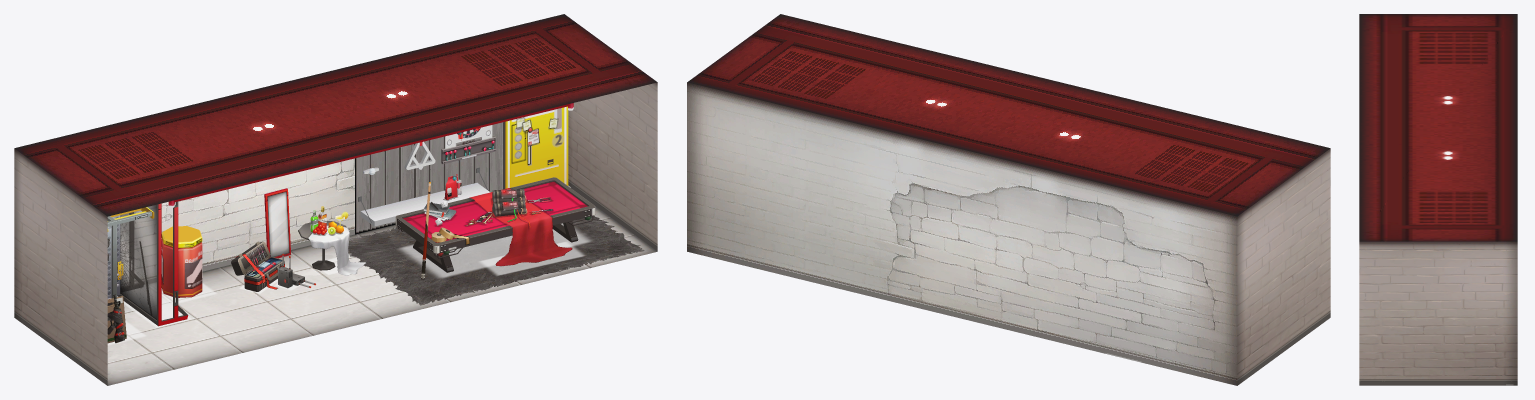
Rendered from dormW.glb.
3 renders of one model, left to right at view 1: azimuth 30°, elevation 25°; view 2: azimuth 150°, elevation 25°; view 3: azimuth 270°, elevation 25°, orthographic. The views are drawn at different scales.
Visible parts, largest first — view 1: ROOM_room, ROOM_floor, furni_dormW_carpet_01, furni_dormW_snookerTable_01, furni_dormW_wallSticker_01, furni_dormW_bulletinboard_01, furni_dormW_partition_03, furni_dormW_snookerTable_02, furni_dormW_barrel_01, furni_dormW_weaponRack_01, shadow_01.006, furni_dormW_partition_01 (+11 smaller); view 2: ROOM_room, ROOM_LDoor; view 3: ROOM_room, ROOM_RDoor.
Boxes of the visible parts, x1,y1,x2,y2 form: ROOM_room: (14, 14, 657, 385); ROOM_floor: (107, 206, 657, 385); furni_dormW_carpet_01: (348, 215, 644, 305); furni_dormW_snookerTable_01: (395, 177, 595, 279); furni_dormW_wallSticker_01: (355, 122, 504, 234); furni_dormW_bulletinboard_01: (505, 106, 568, 188); furni_dormW_partition_03: (120, 204, 156, 319); furni_dormW_snookerTable_02: (453, 188, 572, 266); furni_dormW_barrel_01: (161, 226, 202, 297); furni_dormW_weaponRack_01: (107, 207, 154, 343); shadow_01.006: (399, 223, 591, 278); furni_dormW_partition_01: (117, 201, 188, 326); ROOM_room: (687, 14, 1330, 385); ROOM_LDoor: (1297, 251, 1316, 341); ROOM_room: (1359, 14, 1517, 385); ROOM_RDoor: (1382, 320, 1414, 385).
Bounding box in the file's own units: 7.52 × 2.2 × 2.24.
7 materials, 7 textured.
